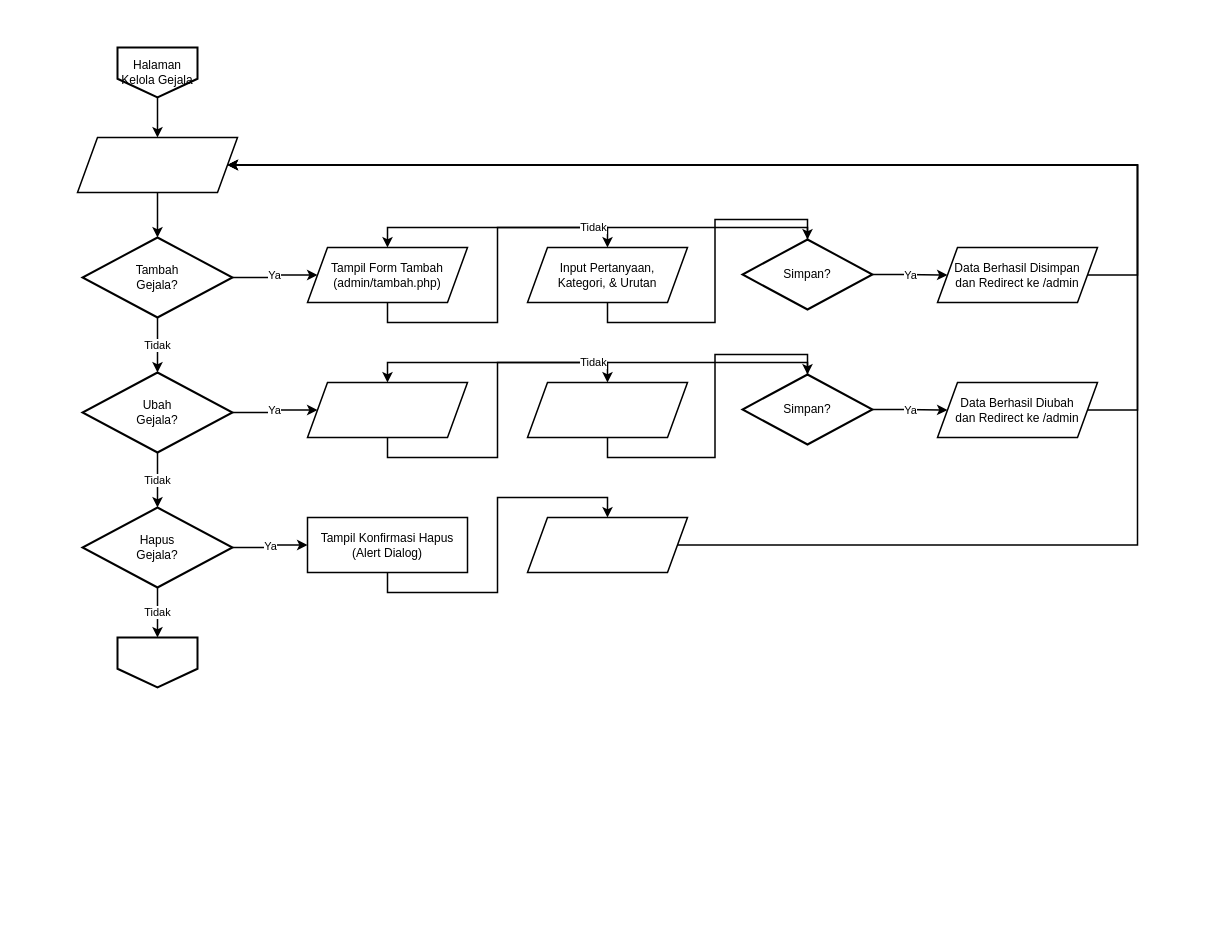
Some shapes in this 1214 by 934 pixel diagram are drawn without their labels. Each missing label, with the centre of its shape:
Dashboard Admin: pixel 157 662
Data Dihapus dari DB dan Redirect ke /admin: pixel 607 544
Tampil Data Gejala DASS (admin/index.php): pixel 157 164
Tampil Form Ubah (admin/edit.php): pixel 387 409
Ubah Pertanyaan, Kategori, & Urutan: pixel 607 409
